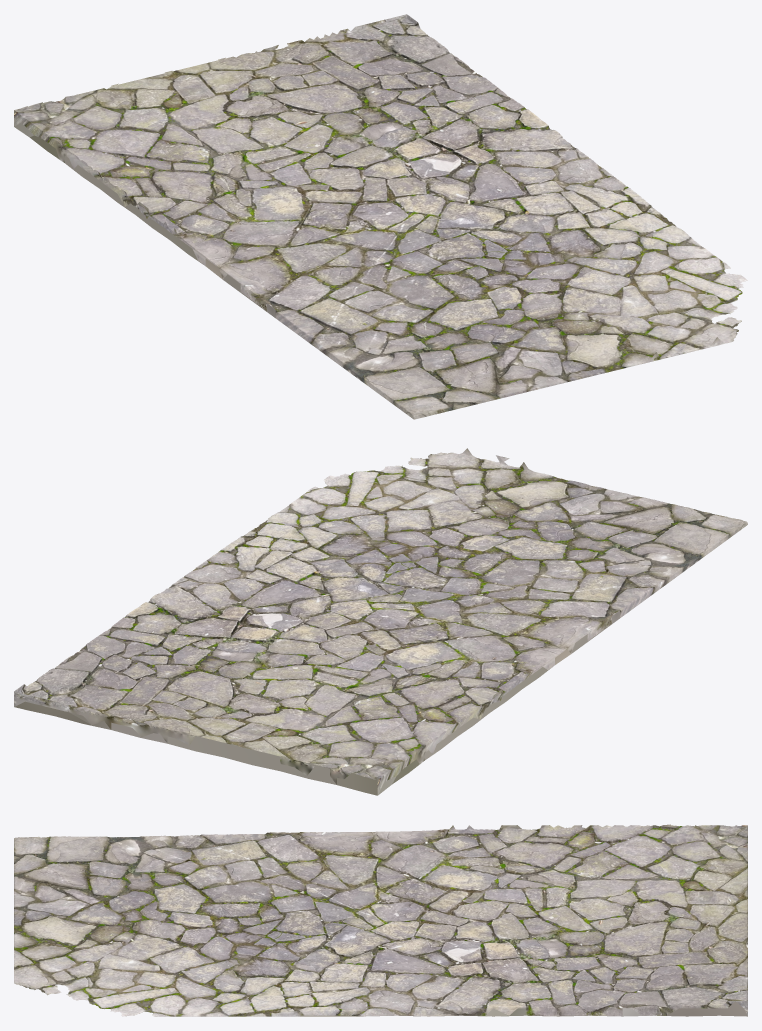
File: stone-ground.glb
3 views of the same model, one above another, from view 1: azimuth 30°, elevation 25°; view 2: azimuth 150°, elevation 25°; view 3: azimuth 270°, elevation 25° (orthographic). The views are drawn at different scales.
Parts seen in each view (by area): view 1: Object_2, Object_3, Object_4; view 2: Object_3, Object_2, Object_4; view 3: Object_2, Object_3, Object_4.
Boxes of the visible parts, x1,y1,x2,y2 form: Object_2: (28, 20, 668, 358); Object_3: (14, 14, 738, 415); Object_4: (14, 23, 747, 419); Object_3: (14, 454, 746, 795); Object_2: (18, 527, 675, 770); Object_4: (26, 448, 747, 795); Object_2: (153, 825, 747, 1016); Object_3: (14, 825, 747, 1016); Object_4: (14, 824, 747, 1016).
Bounding box in the file's own units: 14.3 × 0.6116 × 25.22.
Materials: 1 (1 with a texture image).
